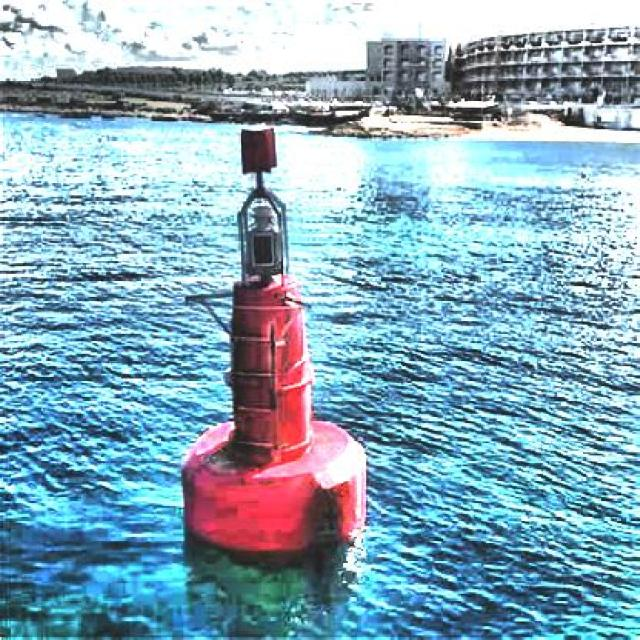Red Buoy: (186, 290, 366, 546)
